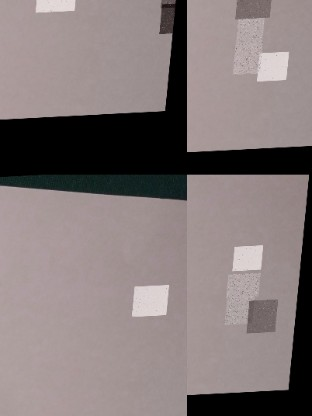ironball: (135, 287, 172, 319), (252, 302, 283, 336), (262, 54, 294, 84), (238, 45, 268, 76), (231, 275, 265, 300), (230, 299, 260, 327), (240, 20, 269, 47), (239, 0, 276, 21), (236, 248, 267, 273), (40, 0, 82, 14), (164, 6, 180, 37), (165, 0, 182, 11)
